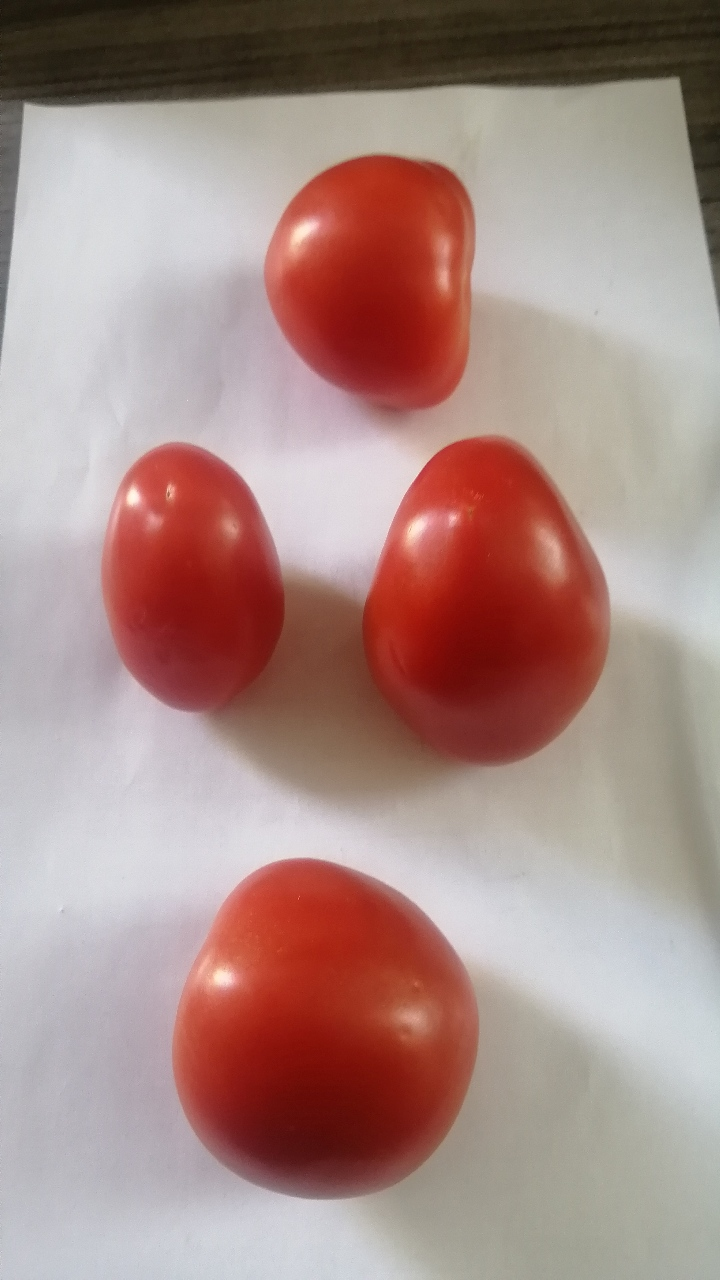tomateRojo: (155, 840, 498, 1217), (334, 417, 640, 779), (238, 135, 501, 419), (80, 428, 306, 717)
